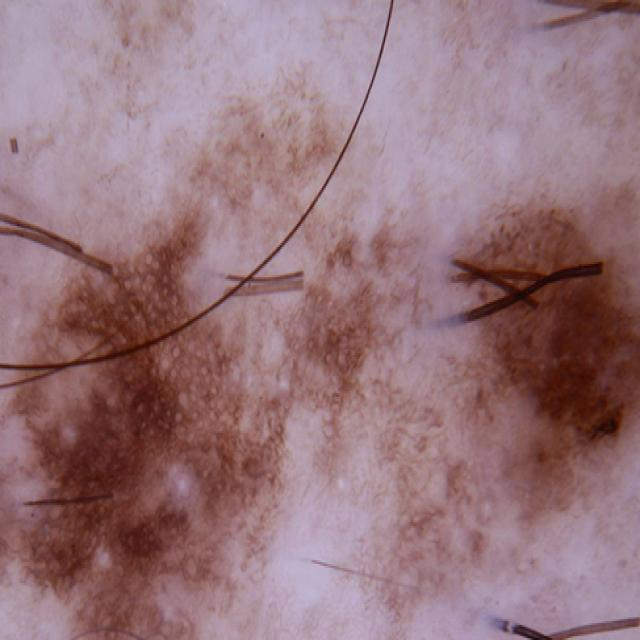Keratosis: (0, 180, 259, 640), (435, 147, 640, 614)
